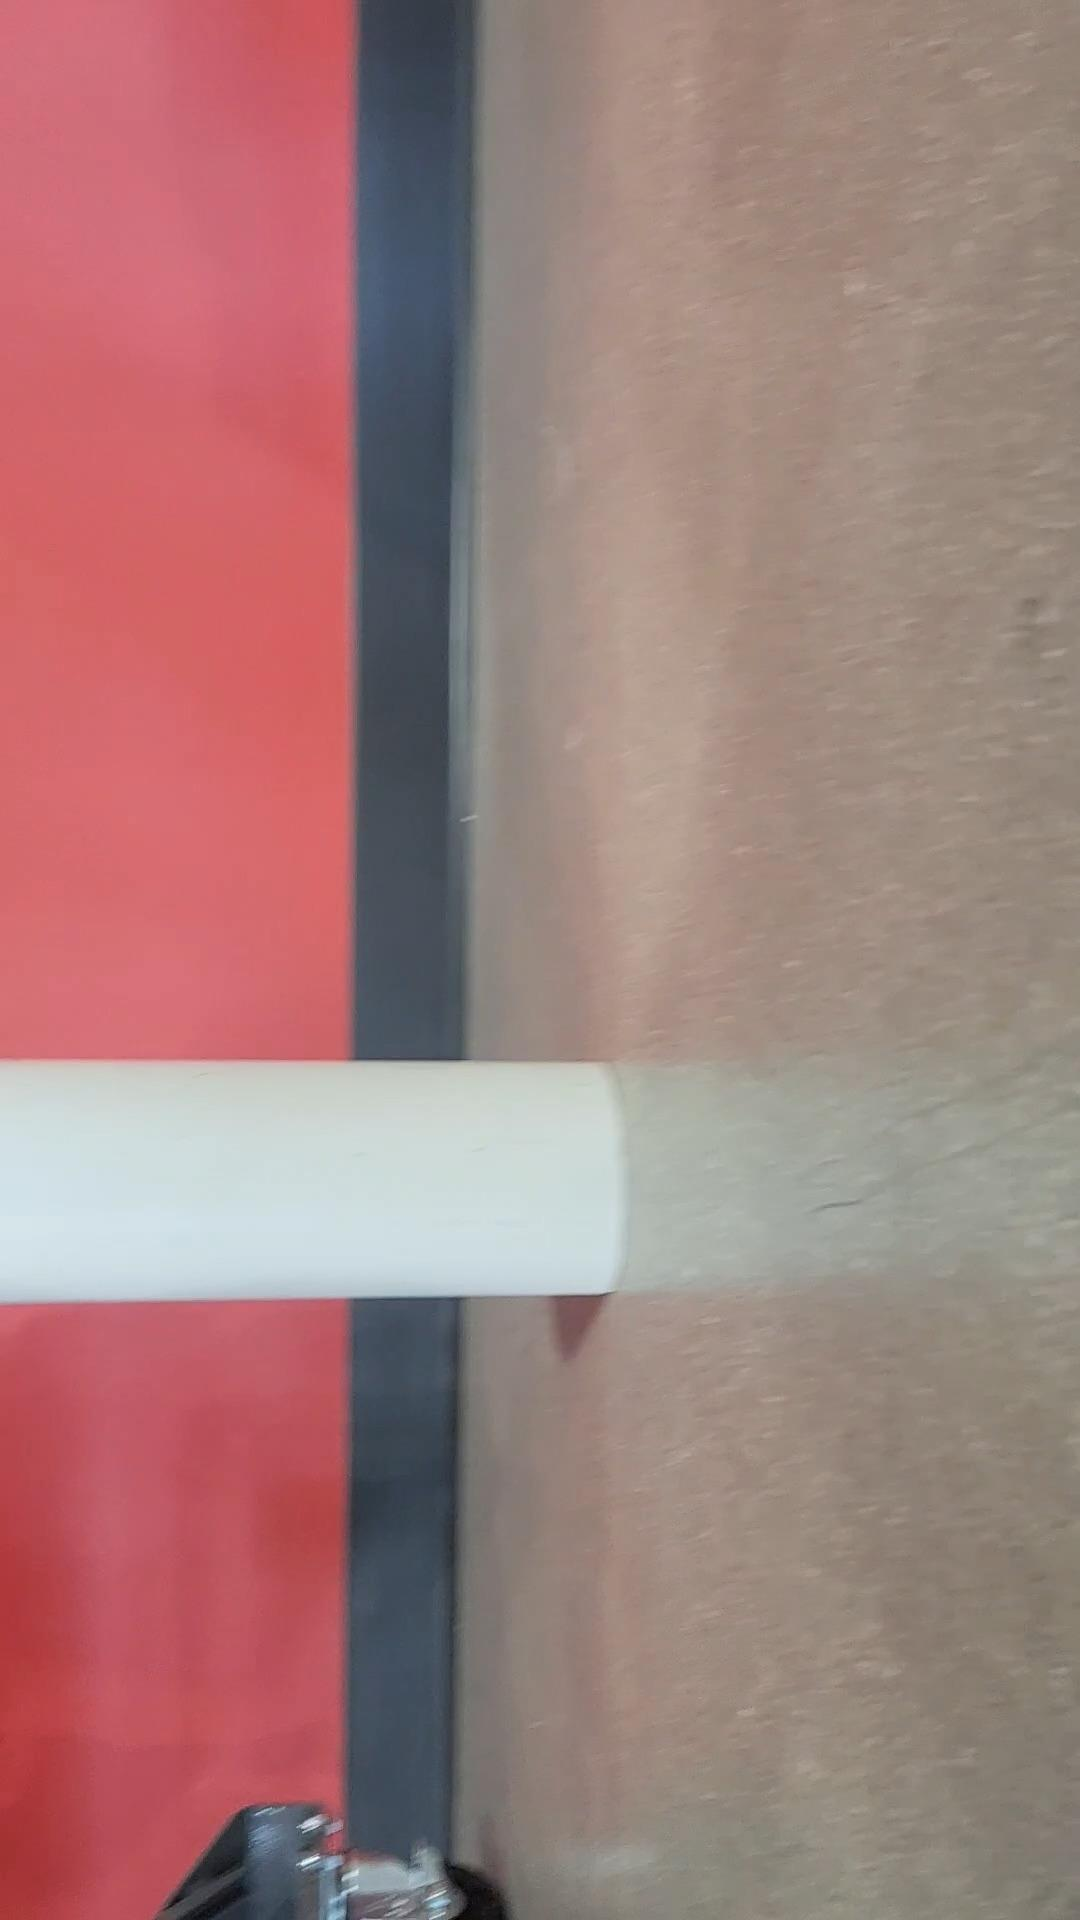coral: (0, 1054, 633, 1307)
